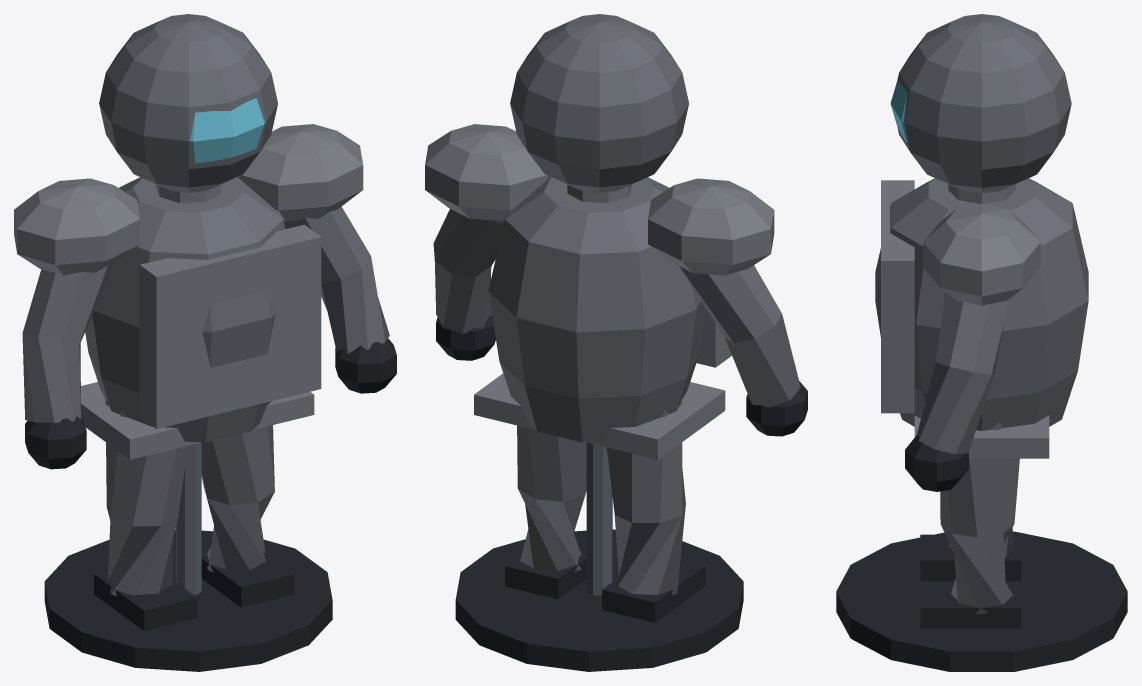
The model's file is composite-armor.glb.
3 views of the same model, side by side, from view 1: azimuth 30°, elevation 25°; view 2: azimuth 150°, elevation 25°; view 3: azimuth 270°, elevation 25° (orthographic).
Visible parts, largest first — view 1: m; view 2: m; view 3: m.
Part boxes in pixels (left/top/right/bottom): m: left=14, top=14, right=396, bottom=671; m: left=425, top=14, right=807, bottom=671; m: left=836, top=14, right=1127, bottom=671.
Bounding box in the file's own units: 0.3641 × 0.56 × 0.251.
